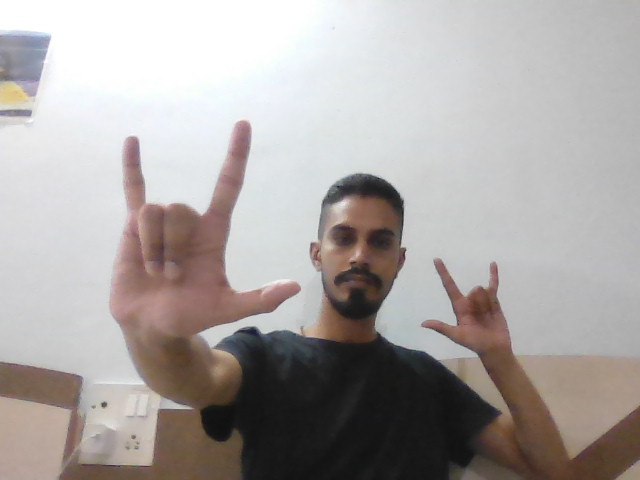ILoveYou: (102, 98, 305, 330), (419, 250, 548, 351)
